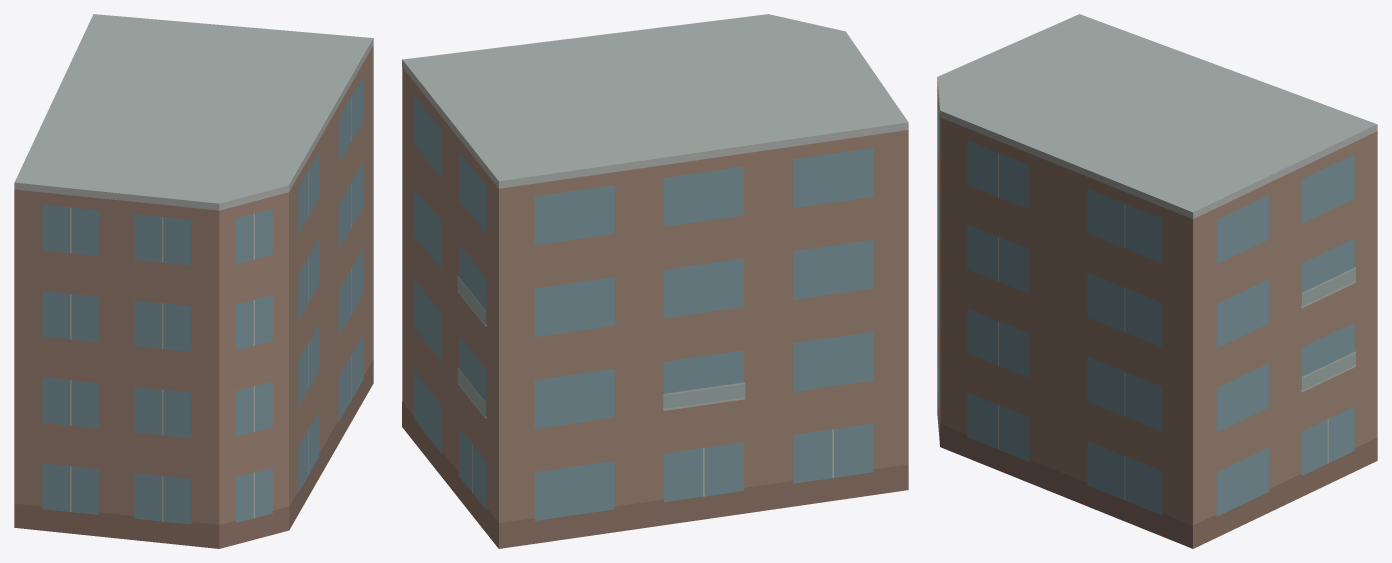
File: survey-upis-32676556.glb
The picture shows the model from 3 angles, left to right: view 1: azimuth 30°, elevation 25°; view 2: azimuth 150°, elevation 25°; view 3: azimuth 270°, elevation 25°; orthographic projection. The views are drawn at different scales.
Visible parts, largest first — view 1: survey-upis-32676556.tmp; view 2: survey-upis-32676556.tmp; view 3: survey-upis-32676556.tmp.
Boxes of the visible parts, x1,y1,x2,y2 form: survey-upis-32676556.tmp: (14, 14, 373, 548); survey-upis-32676556.tmp: (402, 14, 908, 548); survey-upis-32676556.tmp: (937, 14, 1377, 548).
Bounding box in the file's own units: 15.45 × 12.2 × 14.48.
